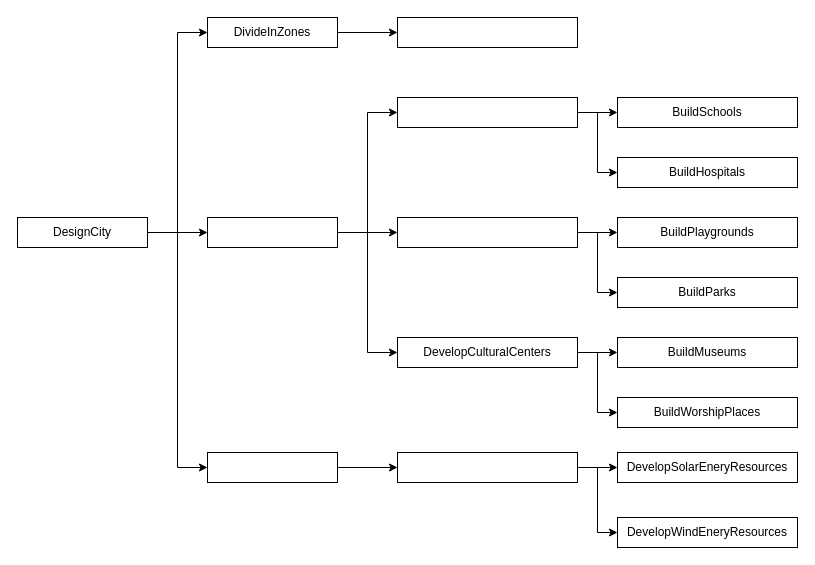
The diagram is 815 pixels wide and 565 high, and some of its shapes have lost their labels. The box of each missing label's shape, as (x1, y1, x2, y2) in pixels:
AllocateZone: (396, 16, 578, 48)
DevelopInfrastructure: (206, 216, 338, 248)
DevelopPublicServices: (396, 96, 578, 128)
DevelopRecreationalCenters: (396, 216, 578, 248)
DevelopRenewableResources: (396, 452, 578, 482)
EnsureSustainability: (206, 452, 338, 482)
